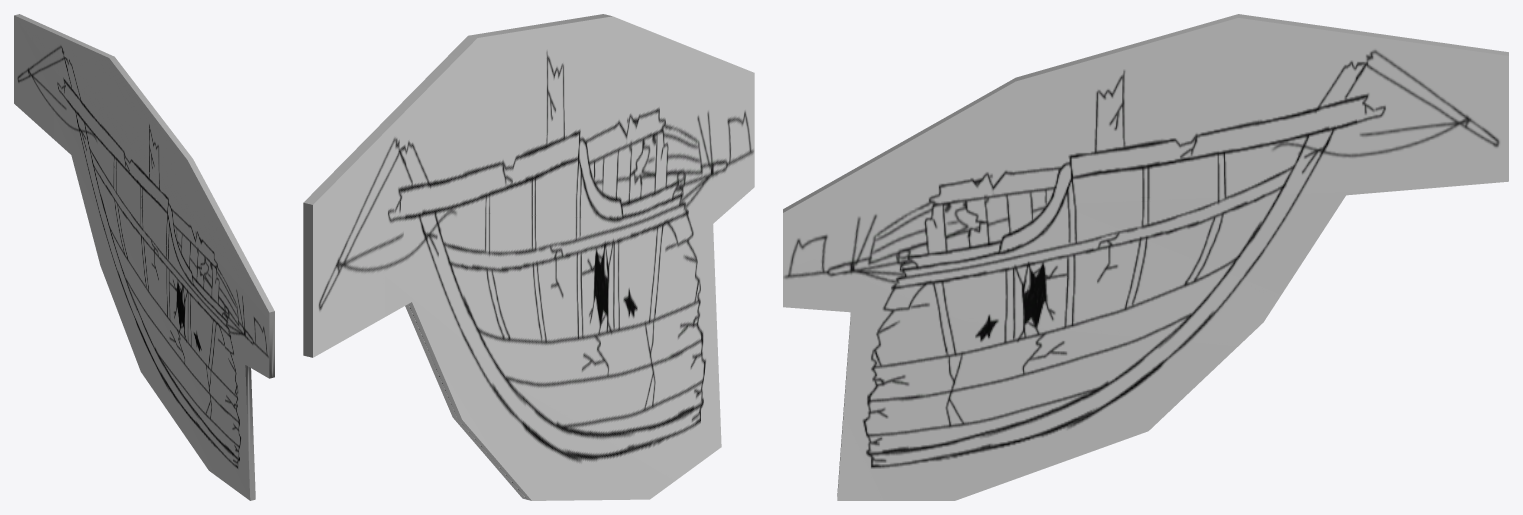
Rendered from ship_center.fbx.
The picture shows the model from 3 angles, left to right: view 1: azimuth 30°, elevation 25°; view 2: azimuth 150°, elevation 25°; view 3: azimuth 270°, elevation 25°; orthographic projection. The views are drawn at different scales.
Parts seen in each view (by area): view 1: pCube1; view 2: pCube1; view 3: pCube1.
Boxes of the visible parts, x1,y1,x2,y2 form: pCube1: (14,14,274,500); pCube1: (303,14,754,500); pCube1: (783,14,1508,500).
Bounding box in the file's own units: 0.1 × 5.87 × 8.
Materials: 2 (1 with a texture image).
